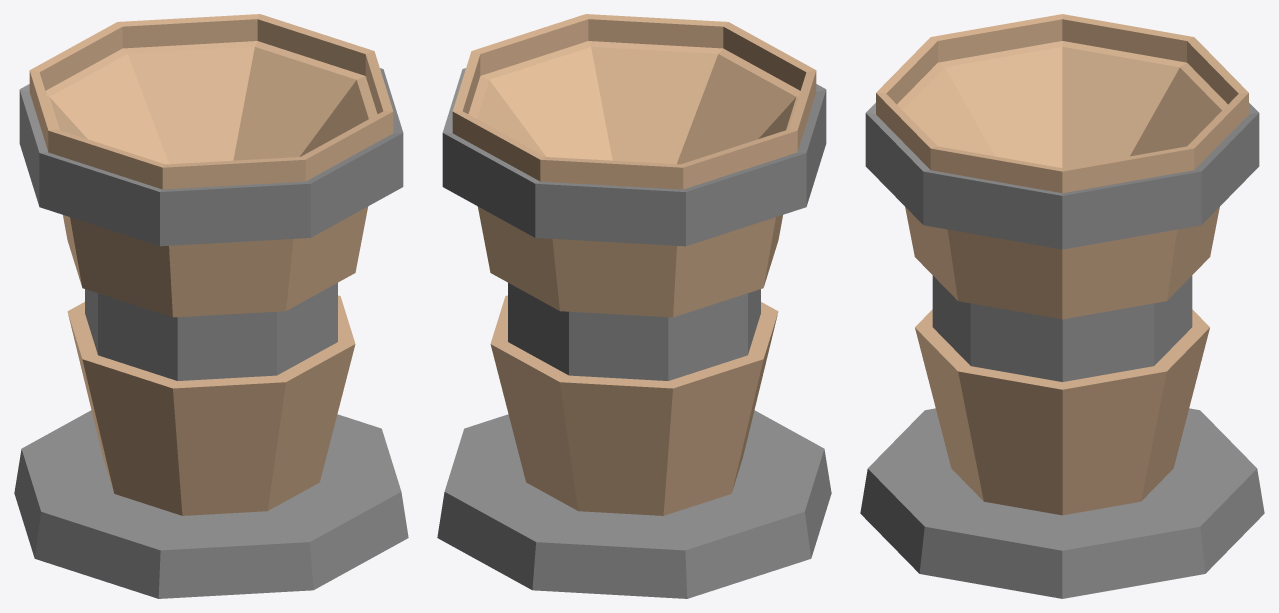
The model's file is GlyphRaider_crystal_pillar.glb.
3 views of the same model, side by side, from view 1: azimuth 30°, elevation 25°; view 2: azimuth 150°, elevation 25°; view 3: azimuth 270°, elevation 25° (orthographic).
Parts seen in each view (by area): view 1: CrystalPillar-col; view 2: CrystalPillar-col; view 3: CrystalPillar-col.
Part boxes in pixels (box(x1,y1,x2,y2)): CrystalPillar-col: box(14, 14, 408, 598); CrystalPillar-col: box(437, 14, 831, 598); CrystalPillar-col: box(860, 14, 1264, 598).
Size of the model in its own units: 1.22 by 1.4 by 1.22.
